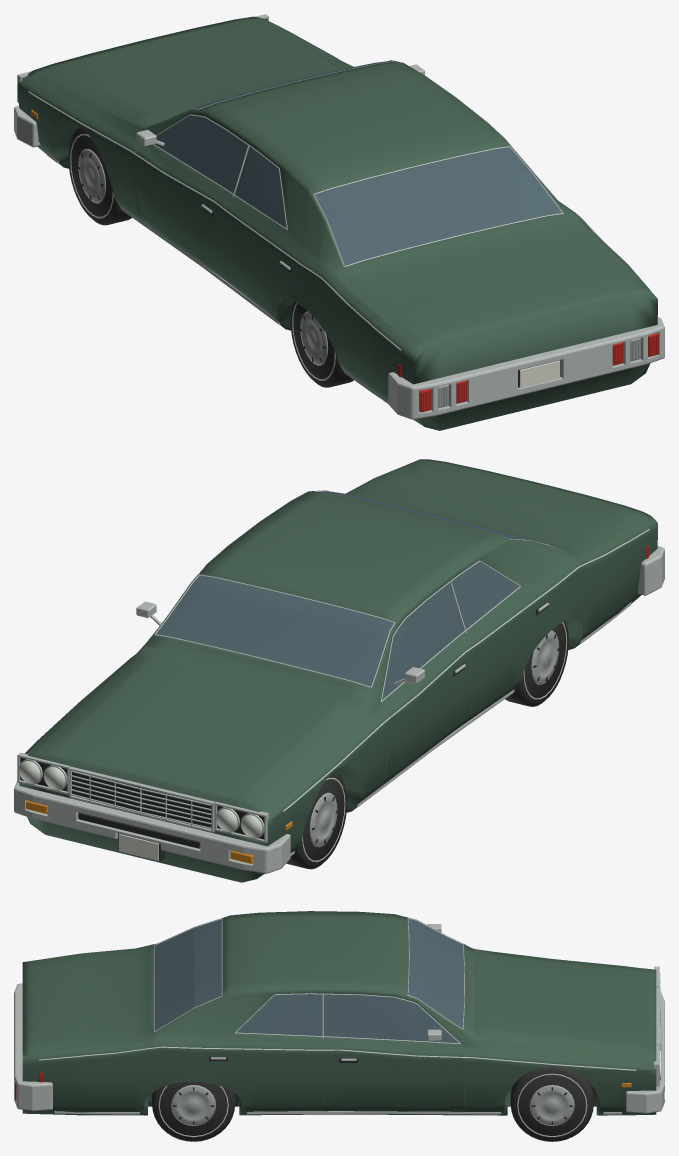
Rendered from impala1970-hardtop.glb.
3 views of the same model, one above another, from view 1: azimuth 30°, elevation 25°; view 2: azimuth 150°, elevation 25°; view 3: azimuth 270°, elevation 25° (orthographic). The views are drawn at different scales.
Visible parts, largest first — view 1: body, glass_envelope, bumper_rear, trim_body_chrome, wheel_fl, wheel_rl, trim_rim_fl, lamp_taillights, trim_rim_rl, plate_registration, bumper_front; view 2: body, glass_envelope, trim_body_chrome, bumper_front, trim_seals_and_recesses, wheel_fl, wheel_rl, lamp_headlights, trim_rim_fl, trim_rim_rl, bumper_rear, plate_registration; view 3: body, glass_envelope, trim_body_chrome, wheel_fr, wheel_rr, bumper_rear, trim_rim_fr, trim_rim_rr, bumper_front, trim_rim_whitewall_fr.
Boxes of the visible parts, <box> form: body: <box>17,16,657,430</box>; glass_envelope: <box>155,61,561,265</box>; bumper_rear: <box>388,317,664,419</box>; trim_body_chrome: <box>17,14,649,403</box>; wheel_fl: <box>68,126,131,225</box>; wheel_rl: <box>290,301,353,387</box>; trim_rim_fl: <box>78,149,106,203</box>; lamp_taillights: <box>398,333,658,412</box>; trim_rim_rl: <box>300,311,328,365</box>; plate_registration: <box>520,360,560,387</box>; bumper_front: <box>14,105,40,147</box>; body: <box>19,459,657,882</box>; glass_envelope: <box>156,491,529,700</box>; trim_body_chrome: <box>17,490,649,855</box>; bumper_front: <box>14,781,290,873</box>; trim_seals_and_recesses: <box>20,601,548,860</box>; wheel_fl: <box>286,770,347,869</box>; wheel_rl: <box>505,621,568,706</box>; lamp_headlights: <box>19,761,262,837</box>; trim_rim_fl: <box>309,792,337,847</box>; trim_rim_rl: <box>531,630,559,684</box>; bumper_rear: <box>637,546,664,595</box>; plate_registration: <box>118,834,158,860</box>; body: <box>22,911,656,1115</box>; glass_envelope: <box>154,918,463,1043</box>; trim_body_chrome: <box>39,918,662,1114</box>; wheel_fr: <box>510,1067,593,1141</box>; wheel_rr: <box>152,1082,234,1141</box>; bumper_rear: <box>14,983,52,1111</box>; trim_rim_fr: <box>529,1085,574,1125</box>; trim_rim_rr: <box>171,1085,216,1125</box>; bumper_front: <box>626,992,664,1113</box>; trim_rim_whitewall_fr: <box>517,1073,587,1137</box>.
Size of the model in its own units: 2.21 by 1.4 by 5.49.
